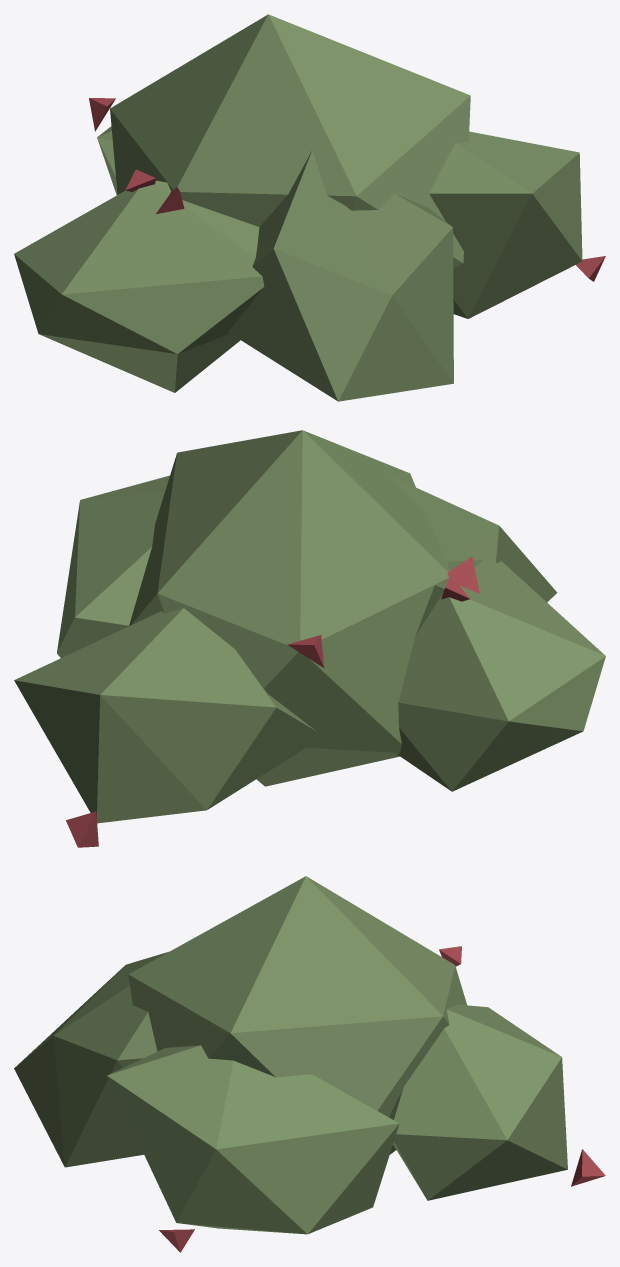
File: bush_5.glb
3 renders of one model, top to bottom at view 1: azimuth 30°, elevation 25°; view 2: azimuth 150°, elevation 25°; view 3: azimuth 270°, elevation 25°, orthographic. The views are drawn at different scales.
Visible parts, largest first — view 1: bush_5.001; view 2: bush_5.001; view 3: bush_5.001.
Part boxes in pixels (x1=…): bush_5.001: x1=14, y1=14, x2=605, y2=401; bush_5.001: x1=14, y1=430, x2=605, y2=847; bush_5.001: x1=14, y1=876, x2=605, y2=1252.
Bounding box in the file's own units: 3.11 × 2.01 × 3.34.
